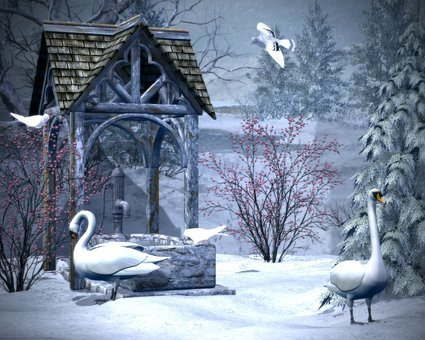bird: (325, 183, 397, 330), (65, 208, 167, 303), (246, 20, 304, 71), (7, 105, 55, 135)
